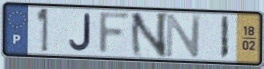1: (35, 7, 50, 55)
F: (96, 10, 133, 57)
I: (219, 15, 231, 62)
J: (67, 13, 93, 53)
N: (129, 11, 170, 59), (164, 13, 204, 59)
